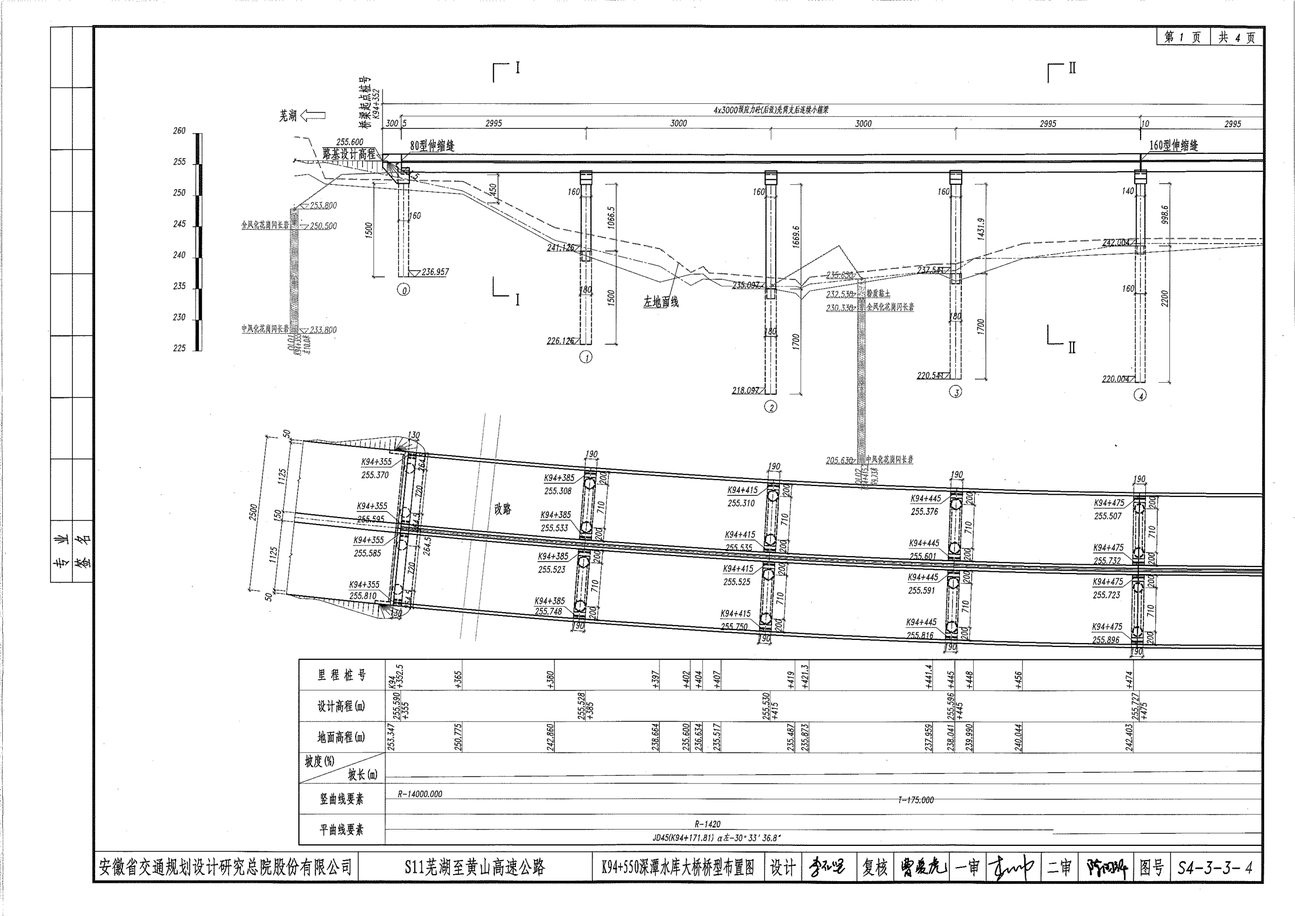A: (160, 53, 1274, 426)
